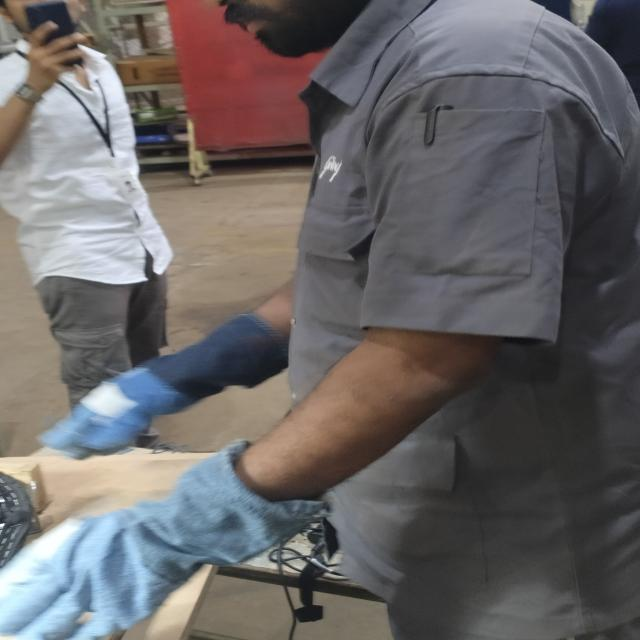Gloves-Detection: (0, 449, 315, 634), (0, 344, 273, 451)
